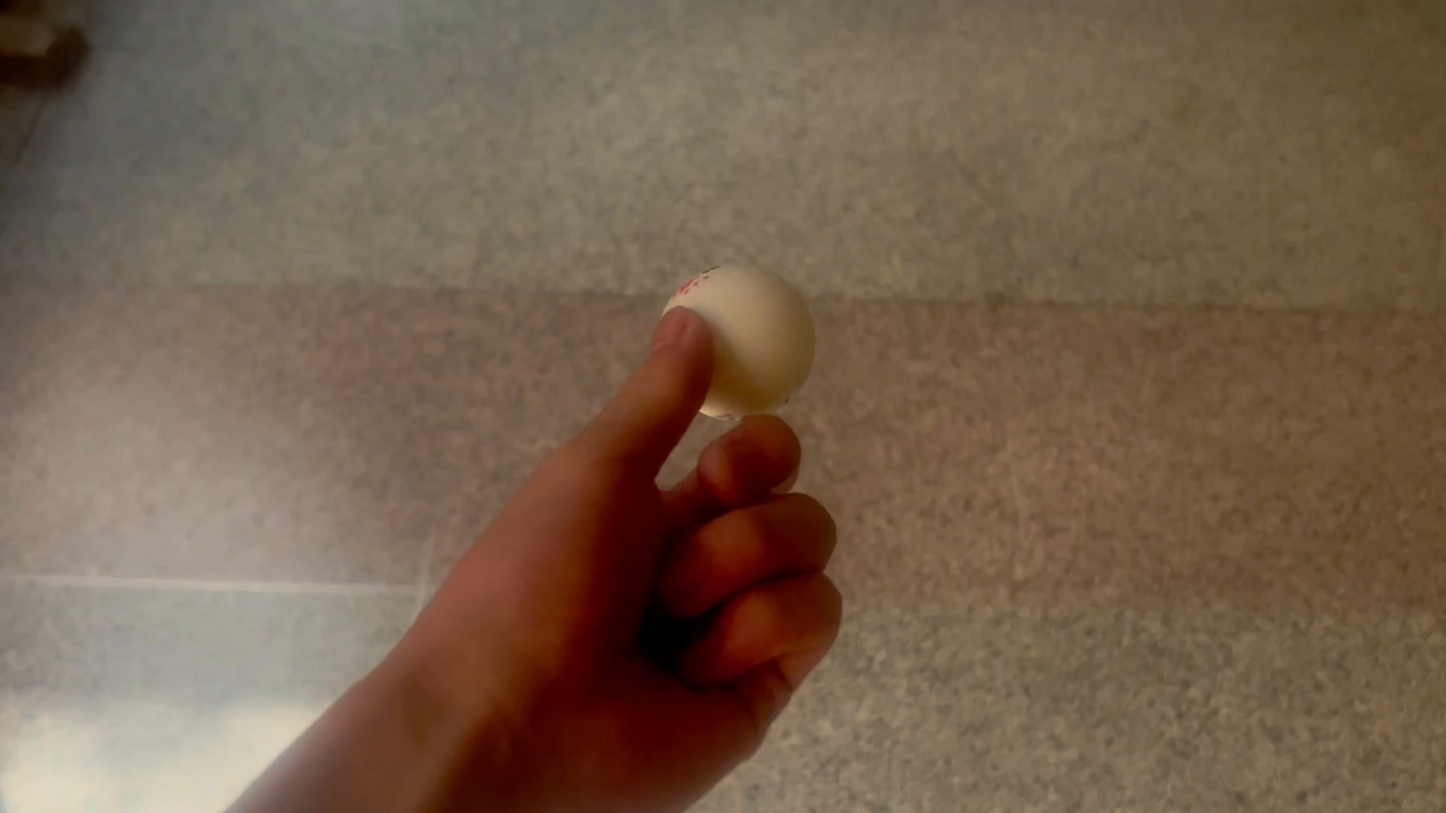Ball: (655, 254, 814, 407)
